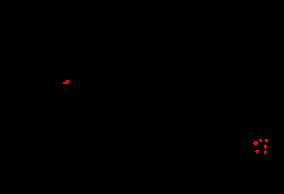Target: (63, 80, 69, 84), (253, 141, 258, 145), (264, 144, 267, 149), (255, 150, 259, 153), (264, 150, 267, 154), (259, 139, 262, 142), (265, 139, 268, 142)
